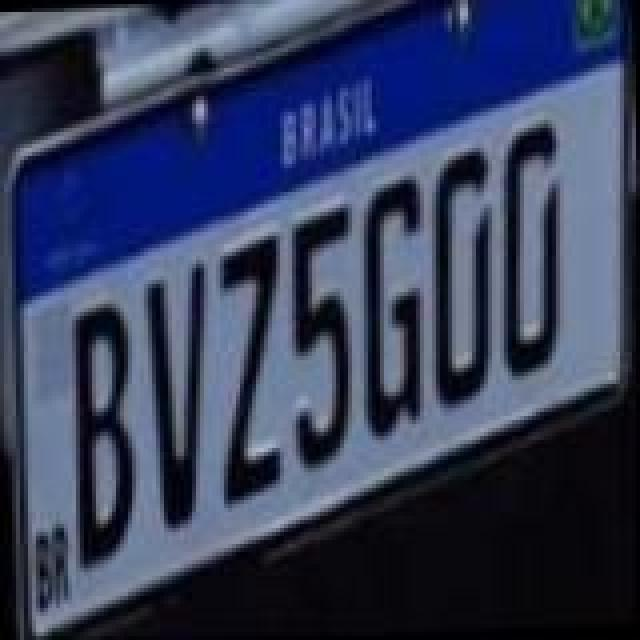5: (286, 198, 358, 474)
B: (72, 302, 140, 574)
D: (424, 142, 496, 410), (494, 120, 562, 380)
G: (354, 172, 426, 448)
V: (140, 254, 212, 534)
Z: (212, 224, 284, 512)
